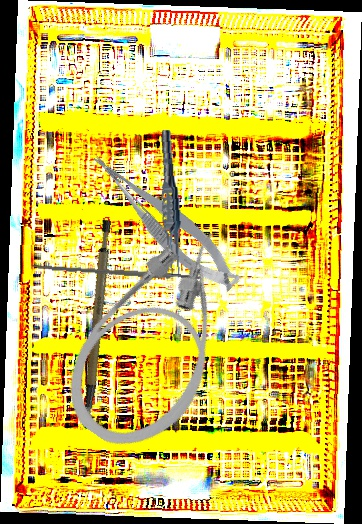Cannula: (42, 208, 279, 470)
Micro Scissor: (86, 135, 246, 306)
Scalpel Handle: (49, 218, 140, 431), (30, 263, 203, 282)
Tissue Forceps: (154, 129, 187, 280)
